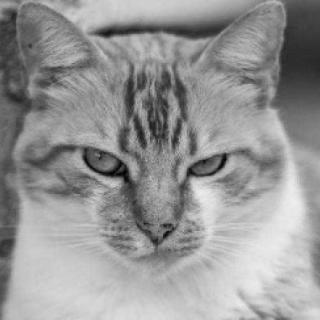cat: (5, 0, 288, 289)
nose: (126, 189, 191, 248)
